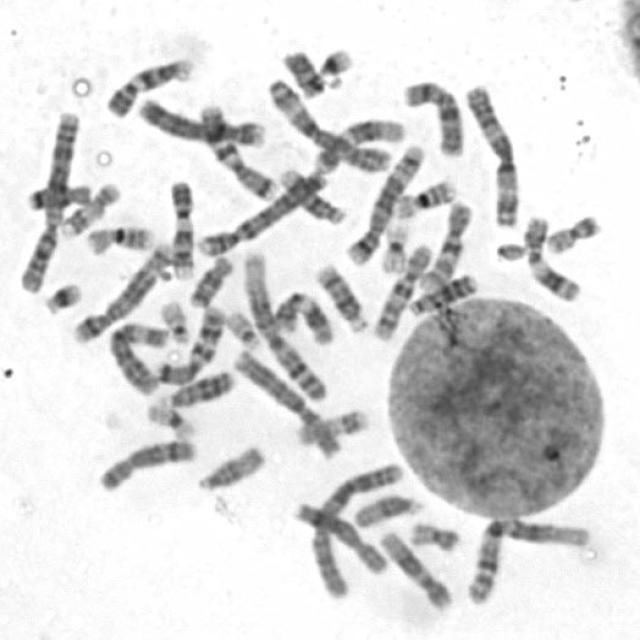A1: (237, 244, 331, 404), (460, 510, 595, 606)
A2: (306, 456, 406, 599), (13, 105, 83, 296)
A3: (262, 71, 396, 173), (460, 75, 524, 228)
B4: (194, 164, 334, 258), (133, 90, 270, 148)
B5: (67, 233, 176, 344), (342, 136, 427, 267)
C10: (366, 238, 435, 343), (414, 194, 476, 292)
C11: (518, 208, 586, 304), (269, 285, 336, 348)
C12: (375, 526, 456, 612), (310, 112, 408, 171)
C6: (228, 343, 346, 461), (101, 315, 171, 397)
C7: (193, 96, 281, 201), (149, 298, 227, 385)
C8: (290, 496, 392, 575), (93, 432, 200, 493)
C9: (99, 51, 194, 119), (165, 176, 198, 280)
D13: (403, 267, 480, 318), (155, 363, 238, 409)
D14: (272, 162, 348, 228), (310, 256, 370, 333)
D15: (192, 439, 268, 493), (349, 488, 426, 530)
E16: (388, 172, 459, 219), (80, 218, 158, 256)
E17: (55, 176, 123, 238), (288, 402, 373, 447)
E18: (183, 249, 236, 309), (22, 177, 93, 212)
F19: (140, 397, 198, 440), (375, 216, 414, 274)
F20: (541, 208, 605, 255), (403, 515, 463, 553)
G21: (314, 41, 355, 88), (39, 274, 84, 315)
G22: (155, 294, 196, 345), (221, 304, 264, 350)
X: (397, 74, 467, 158)
Y: (277, 43, 329, 99)
